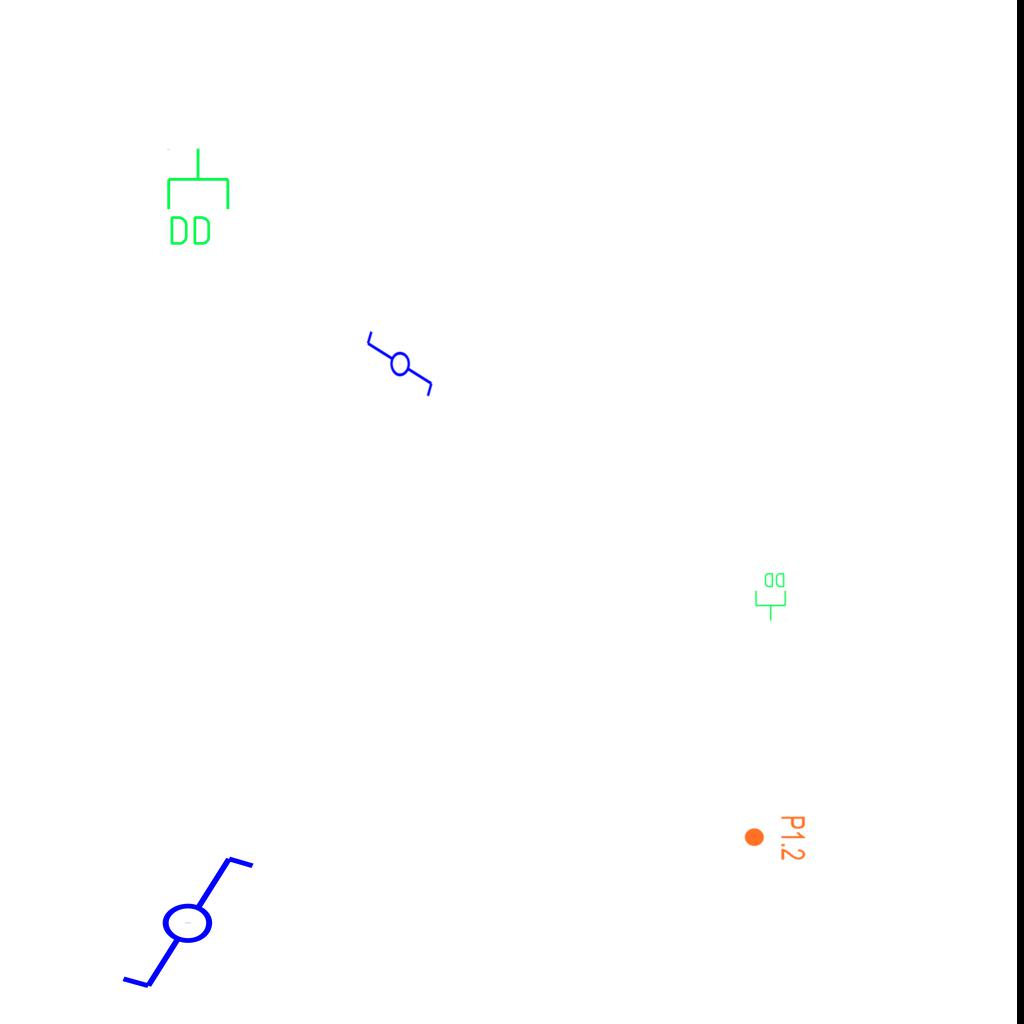Datenanschluss_zweifach: (163, 146, 232, 249), (754, 571, 788, 622)
Downlight_LED_Einbauleuchten_Flur: (743, 815, 807, 861)
Wechselschalter: (101, 849, 258, 993), (363, 329, 435, 407)
